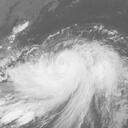cyclone: (8, 41, 123, 104)
